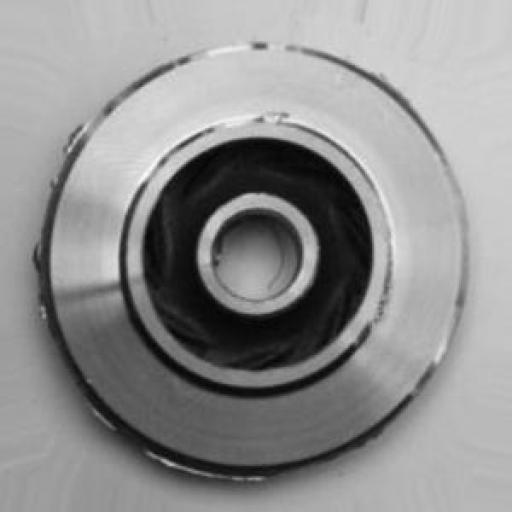defect: (24, 31, 484, 492)
